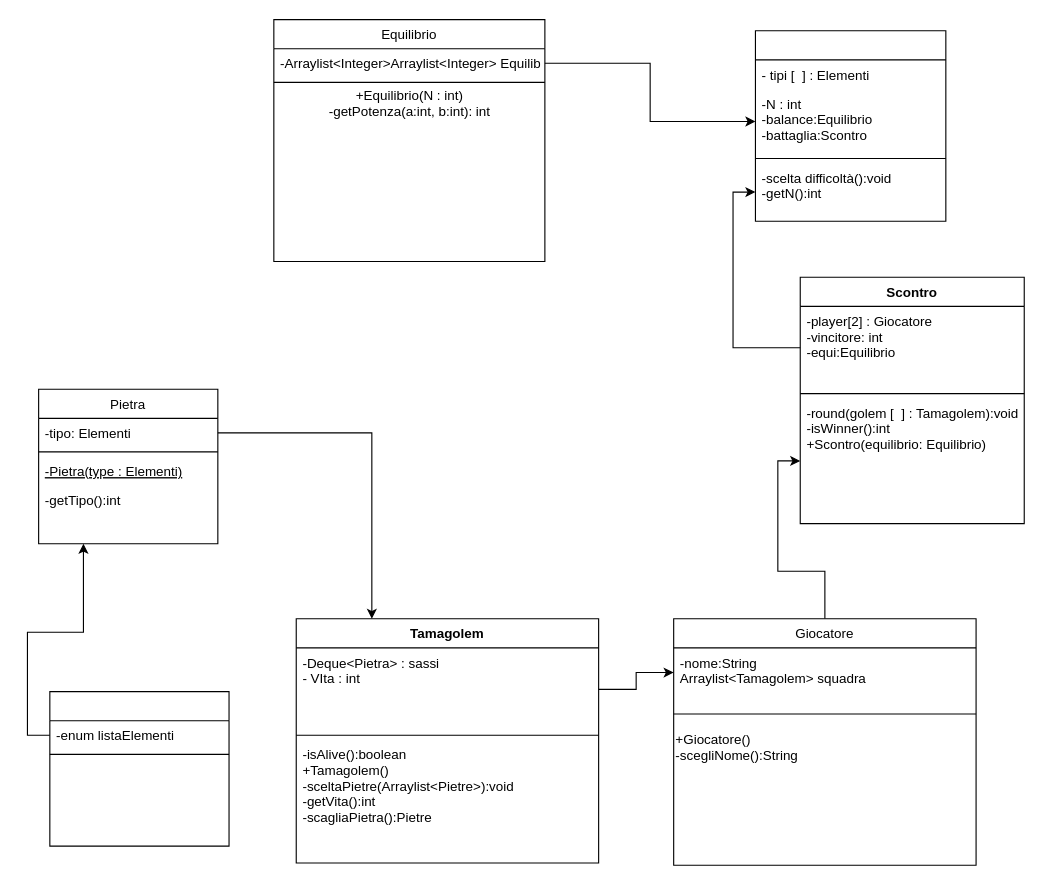
Some shapes in this 1044 by 886 pixel diagram are drawn without their labels. Here are the shapes that lost their labels. From the top down, the box of each, then its label:
(754, 30, 946, 221): Main
(49, 690, 229, 846): Elementi : enum
